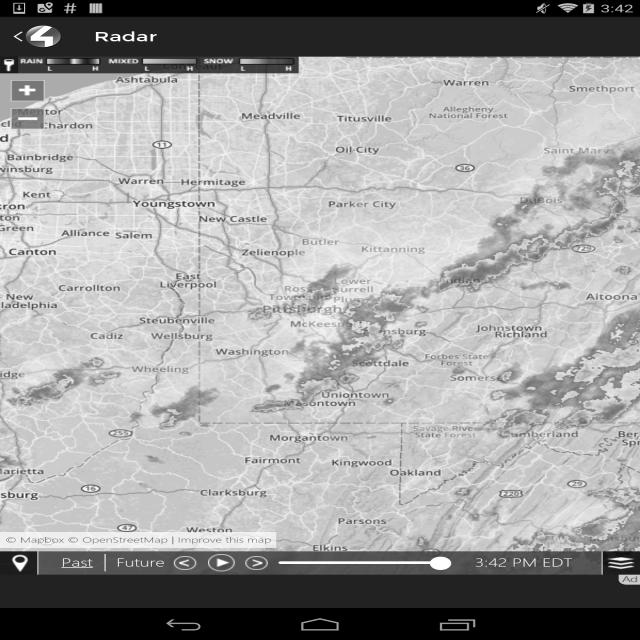ImageButton: (4, 105, 49, 131), (8, 78, 49, 102), (206, 552, 238, 573), (168, 553, 201, 573)
ImageView: (18, 137, 624, 528), (2, 52, 308, 75), (1, 548, 43, 577), (22, 24, 72, 46), (605, 550, 638, 570)
SeekBar: (272, 550, 460, 575)
TextView: (90, 28, 171, 48)
